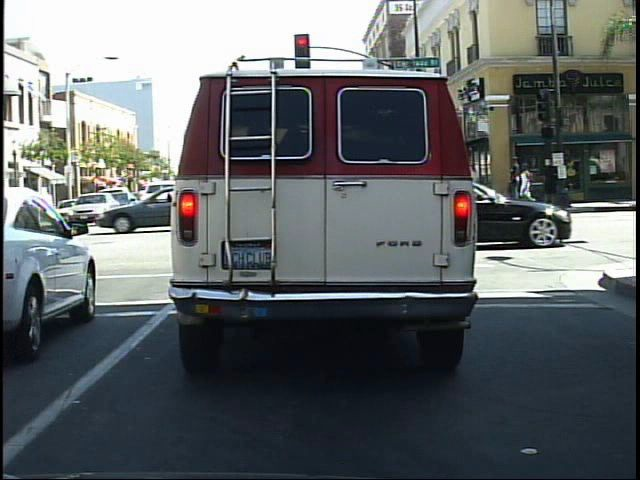person: (536, 154, 563, 215), (516, 157, 541, 214), (519, 160, 538, 213), (507, 153, 525, 203)
